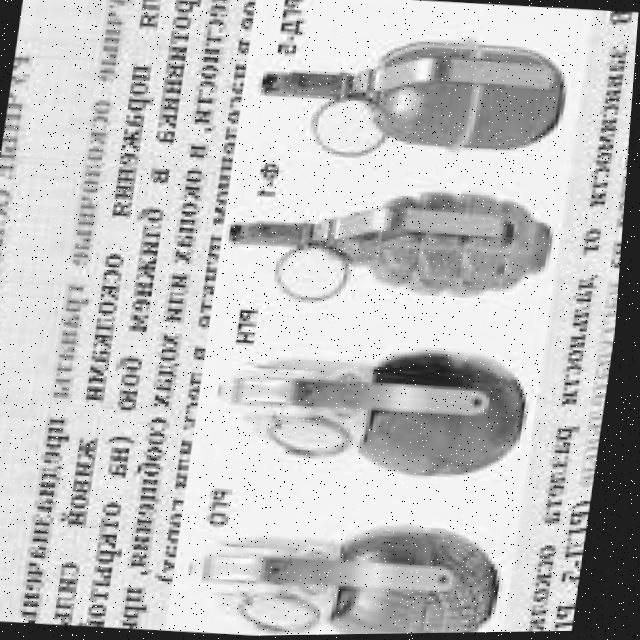grenade: (213, 332, 543, 498), (249, 23, 577, 175), (221, 178, 560, 318), (183, 508, 518, 637)
